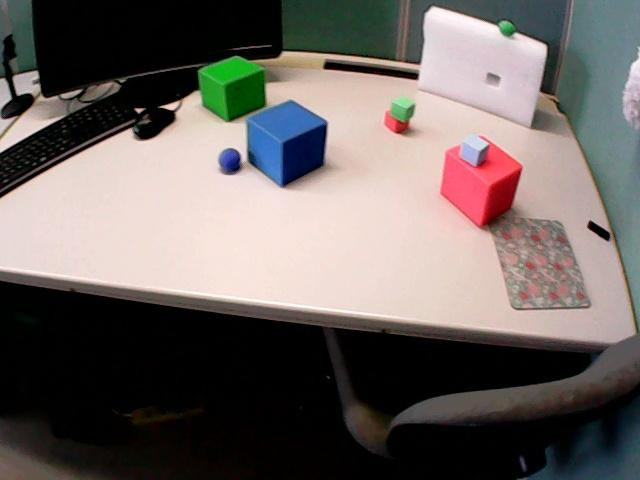blue_block: (246, 100, 326, 185), (460, 135, 488, 166)
red_block: (441, 137, 521, 225), (384, 110, 408, 132)
